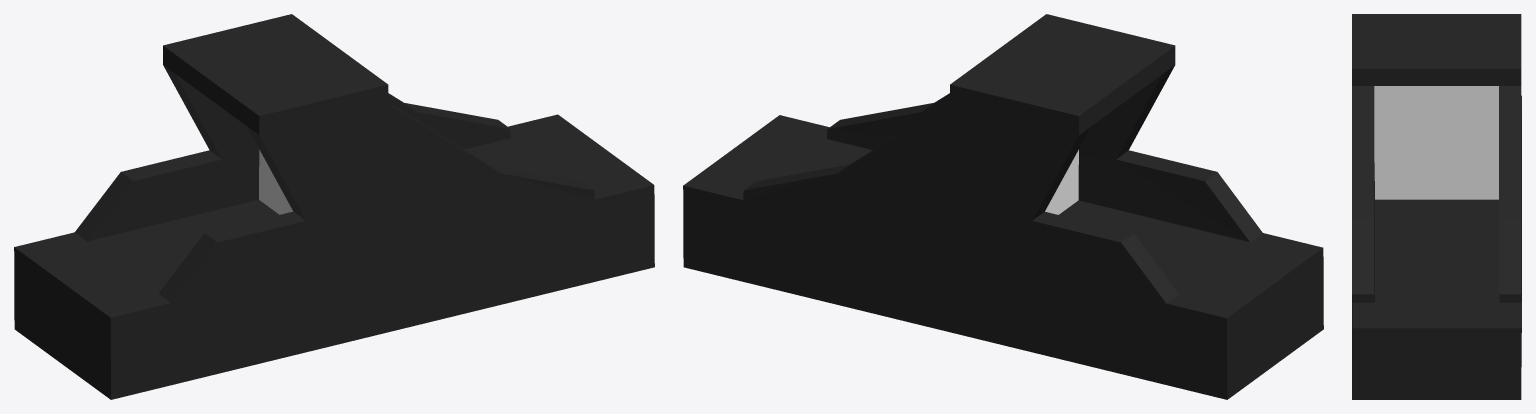
File: Accessories_Red_Dot_A_V2.FBX
The picture shows the model from 3 angles, left to right: view 1: azimuth 30°, elevation 25°; view 2: azimuth 150°, elevation 25°; view 3: azimuth 270°, elevation 25°; orthographic projection. The views are drawn at different scales.
Visible parts, largest first — view 1: Accessories_Red_Dot_A_V2; view 2: Accessories_Red_Dot_A_V2; view 3: Accessories_Red_Dot_A_V2.
Boxes of the visible parts, left/top/right/bottom form: Accessories_Red_Dot_A_V2: left=14, top=14, right=654, bottom=399; Accessories_Red_Dot_A_V2: left=683, top=14, right=1323, bottom=399; Accessories_Red_Dot_A_V2: left=1352, top=14, right=1521, bottom=399.
Bounding box in the file's own units: 38.85 × 16.91 × 11.99.
